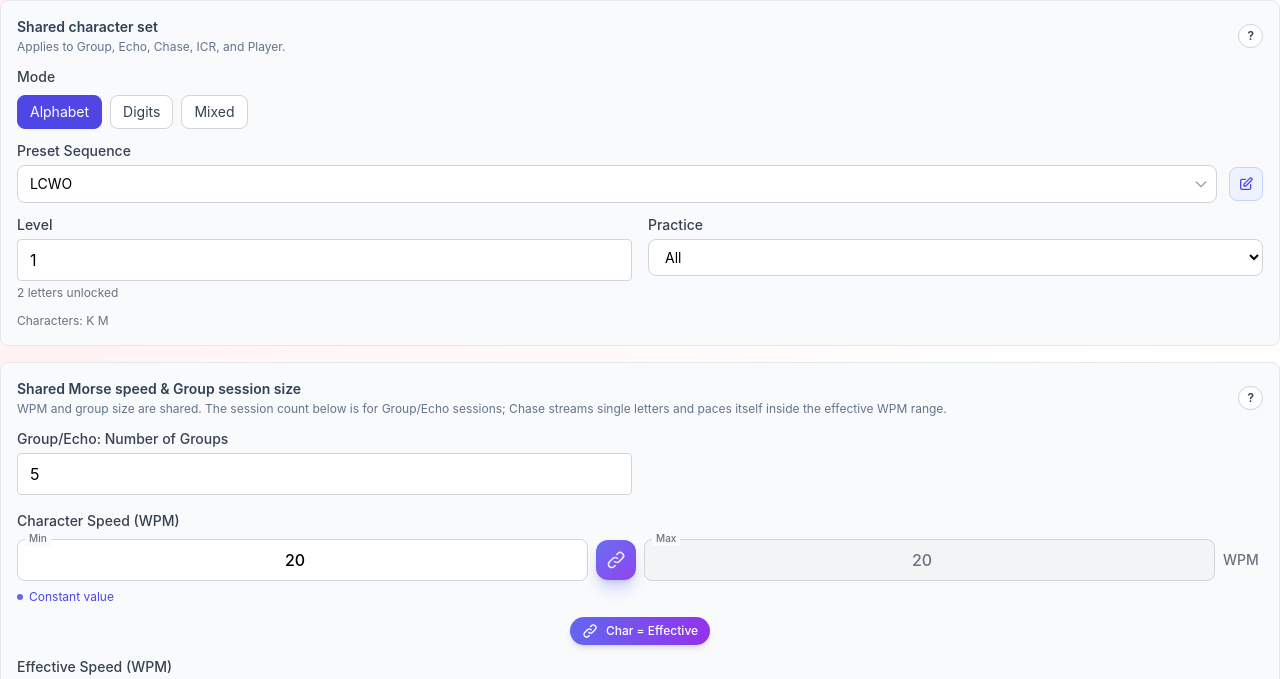
Test: TrainingSettingsForm › should handle invalid charWpm input on blur
Replace the text in the 3rd number field with "0" at (302, 560), box [17, 539, 588, 581]
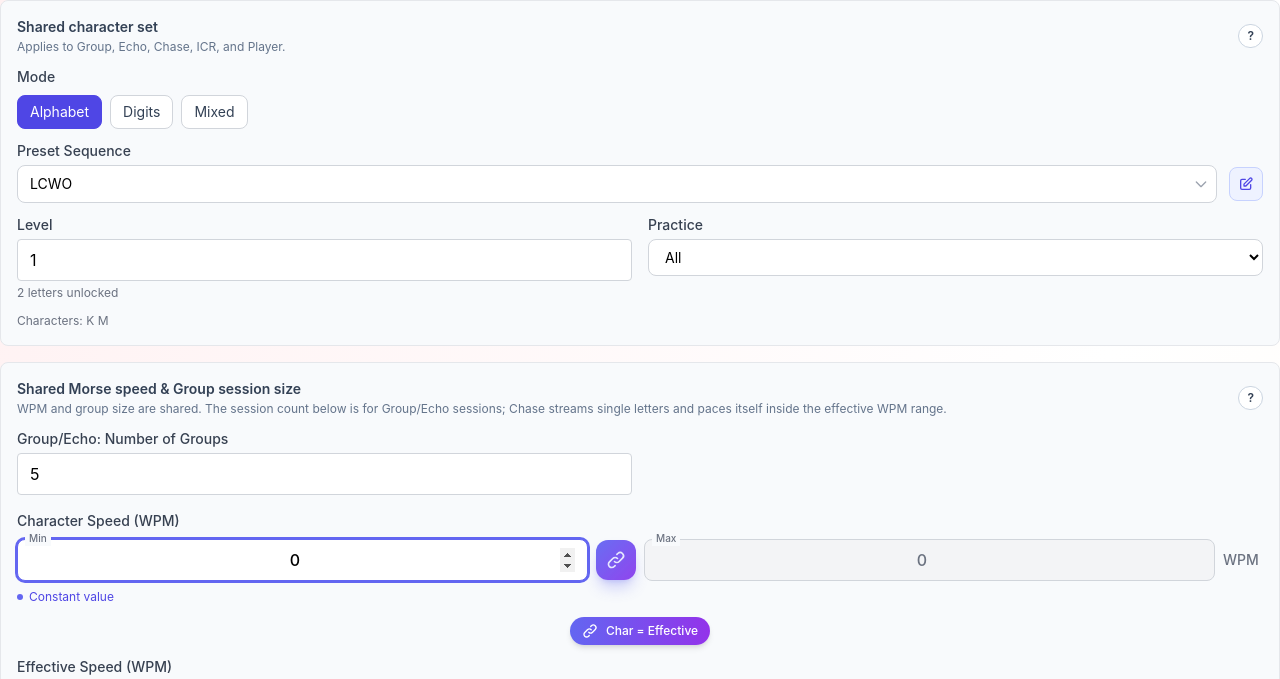
Press Tab
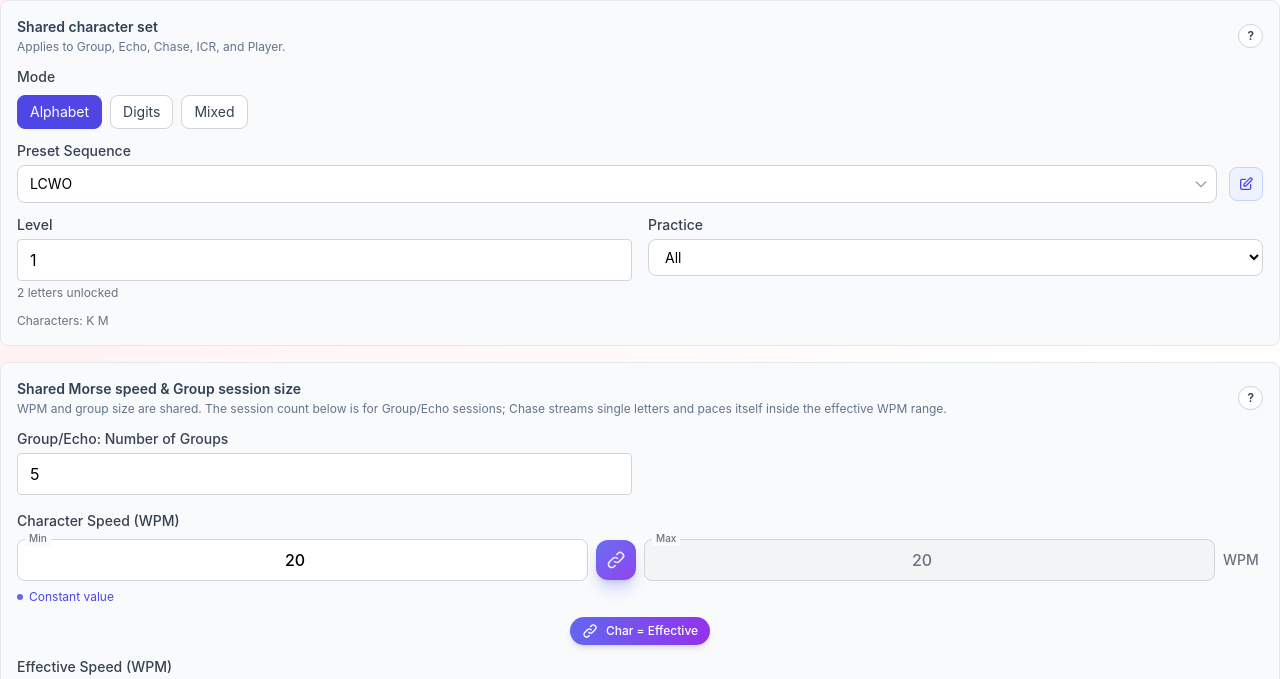
Expected: the 3rd number field holds "20", [17, 539, 588, 581]
